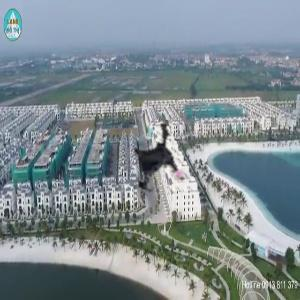drone: (112, 118, 203, 209)
